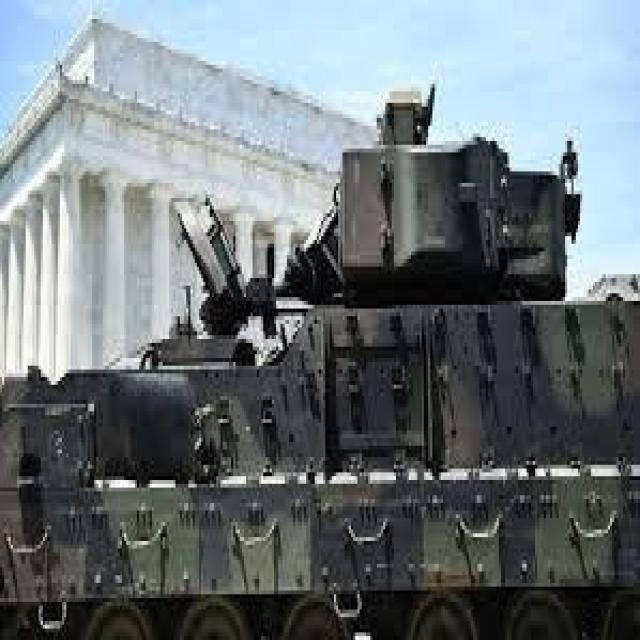Tanks: (24, 70, 620, 616)
